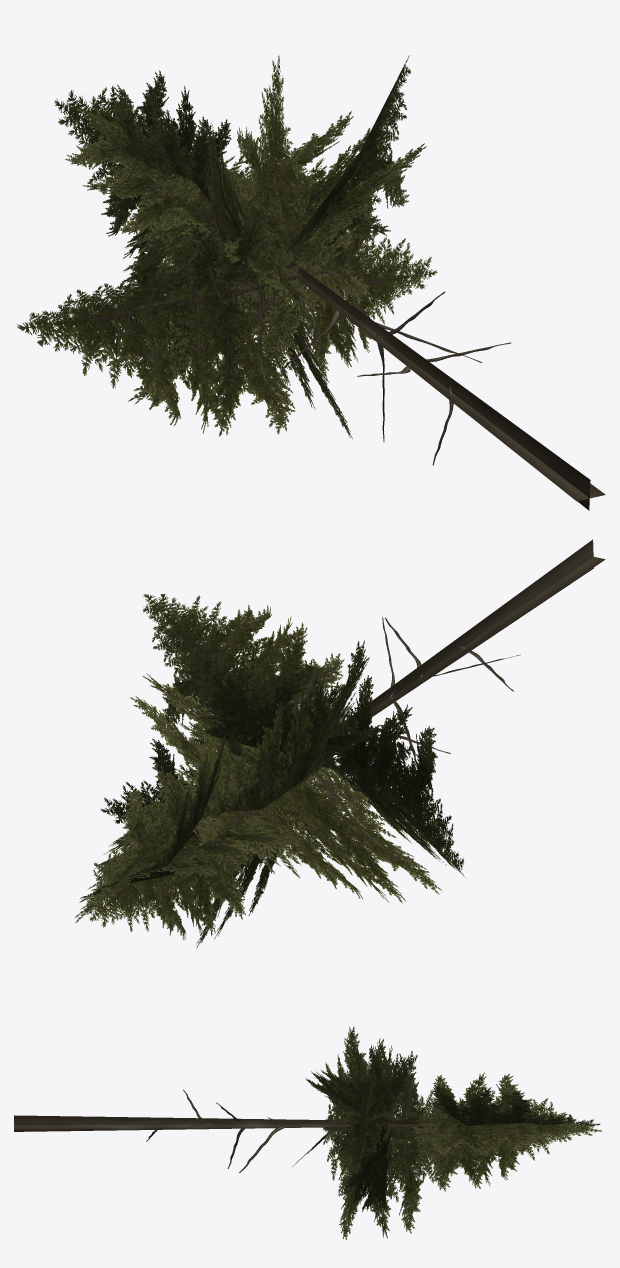
The model's file is MEP_Con_01_c_LOD_01.fbx.
3 views of the same model, one above another, from view 1: azimuth 30°, elevation 25°; view 2: azimuth 150°, elevation 25°; view 3: azimuth 270°, elevation 25° (orthographic). The views are drawn at different scales.
Parts seen in each view (by area): view 1: MEP_Con_01_c_LOD_01; view 2: MEP_Con_01_c_LOD_01; view 3: MEP_Con_01_c_LOD_01.
Part boxes in pixels (bbox=[...]): MEP_Con_01_c_LOD_01: bbox=[17, 55, 605, 510]; MEP_Con_01_c_LOD_01: bbox=[75, 539, 605, 947]; MEP_Con_01_c_LOD_01: bbox=[14, 1026, 602, 1239].
Size of the model in its own units: 12.68 by 11.67 by 27.66.
